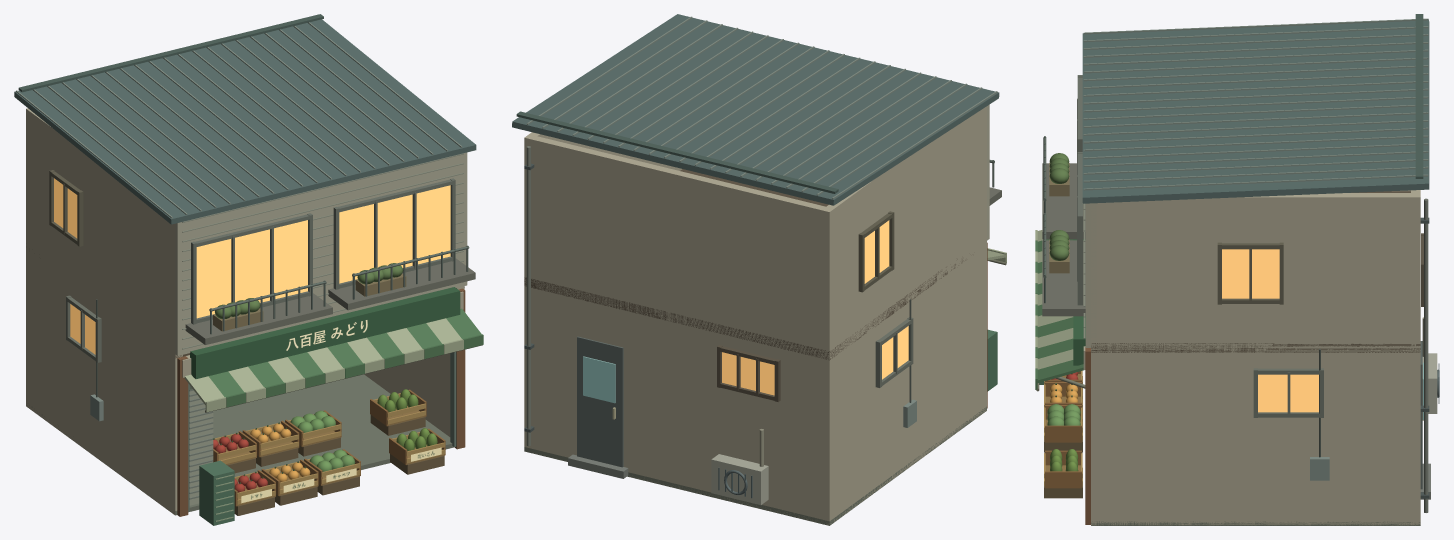
Rendered from produce.glb.
The picture shows the model from 3 angles, left to right: view 1: azimuth 30°, elevation 25°; view 2: azimuth 150°, elevation 25°; view 3: azimuth 270°, elevation 25°; orthographic projection. The views are drawn at different scales.
Visible parts, largest first — view 1: 绿叶青果店, Group_500; view 2: 绿叶青果店, Group_475, Group_500; view 3: 绿叶青果店, Group_515, Group_475.
Part boxes in pixels (<box>): 绿叶青果店: <box>14,14,483,525</box>; Group_500: <box>49,170,103,421</box>; 绿叶青果店: <box>512,14,1006,525</box>; Group_475: <box>524,146,780,504</box>; Group_500: <box>858,211,916,427</box>; 绿叶青果店: <box>1035,14,1429,525</box>; Group_515: <box>1217,242,1329,480</box>; Group_475: <box>1420,198,1439,512</box>.
Size of the model in its own units: 5.9 by 5.9 by 6.13.
Materials: 64 (6 with a texture image).
